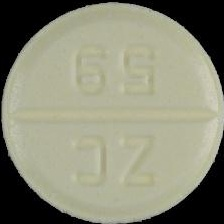33261-758: (0, 0, 224, 224)
